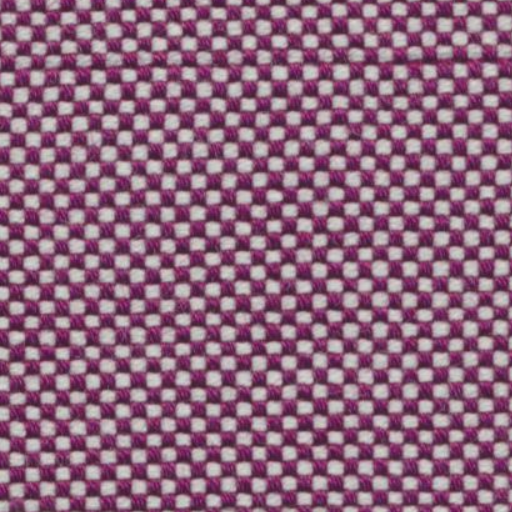TuoSha: (12, 34, 504, 92)
